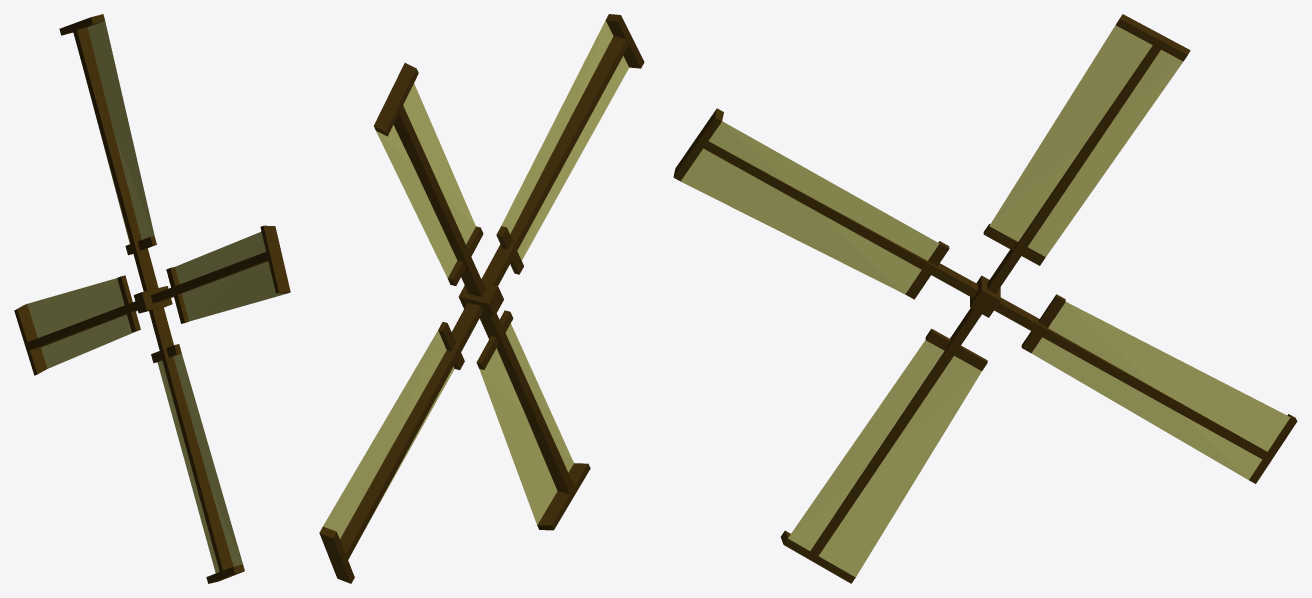
The model's file is mill_sails0013.obj.
3 views of the same model, side by side, from view 1: azimuth 30°, elevation 25°; view 2: azimuth 150°, elevation 25°; view 3: azimuth 270°, elevation 25° (orthographic). The views are drawn at different scales.
Visible parts, largest first — view 1: Sails; view 2: Sails; view 3: Sails.
Boxes of the visible parts, x1=… form: Sails: x1=14, y1=14, x2=290, y2=583; Sails: x1=319, y1=14, x2=644, y2=583; Sails: x1=673, y1=14, x2=1297, y2=583.
Size of the model in its own units: 0.5135 by 9.17 by 9.18.
